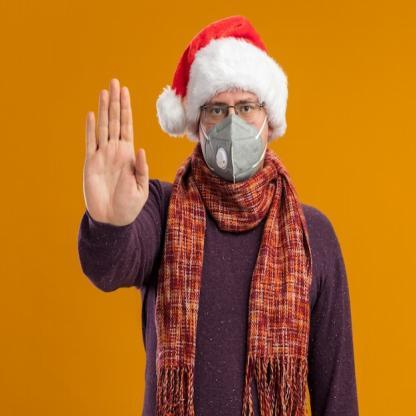stop: (76, 75, 152, 227)
